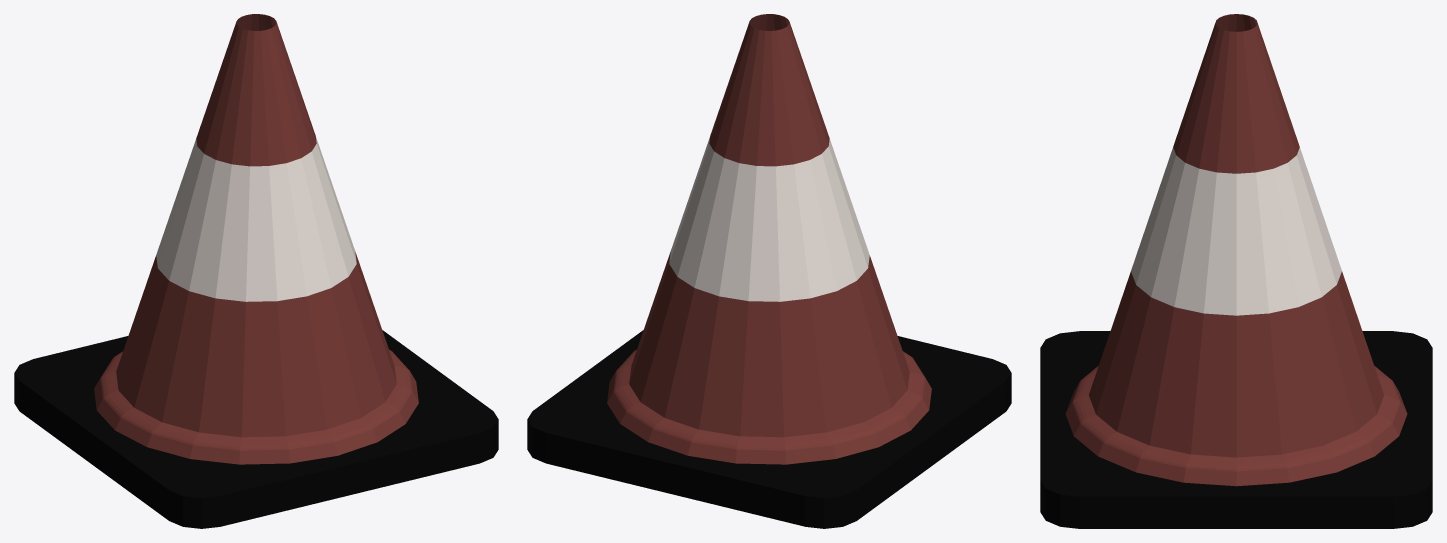
File: ton.fbx
3 renders of one model, left to right at view 1: azimuth 30°, elevation 25°; view 2: azimuth 150°, elevation 25°; view 3: azimuth 270°, elevation 25°, orthographic. The views are drawn at different scales.
Parts seen in each view (by area): view 1: Cube; view 2: Cube; view 3: Cube.
Boxes of the visible parts, x1,y1,x2,y2 form: Cube: (14,14,498,528); Cube: (527,14,1011,528); Cube: (1040,14,1432,528).
Bounding box in the file's own units: 72.17 × 85.96 × 72.17.
